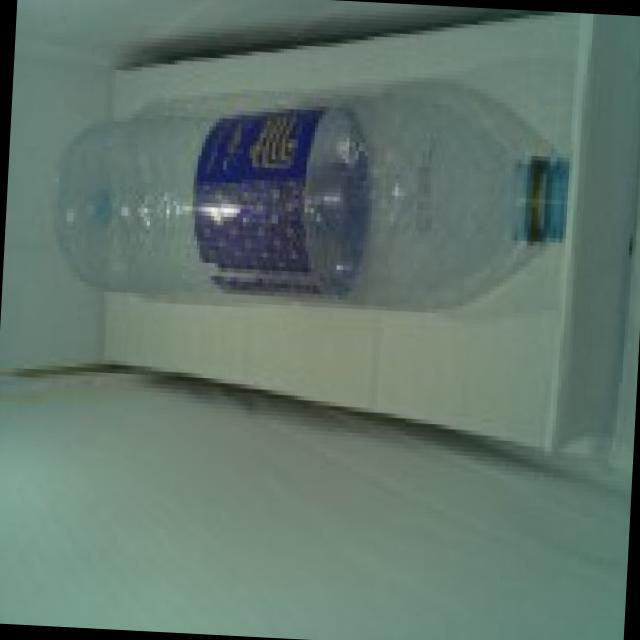good: (53, 46, 606, 342)
